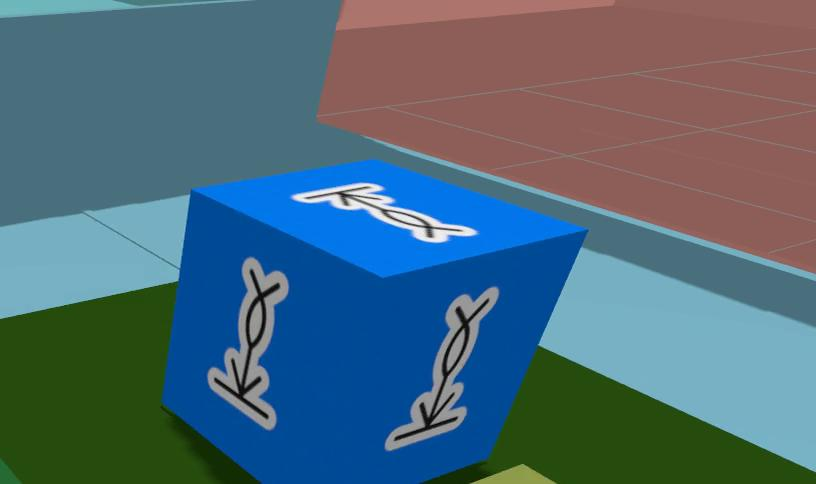KFS_REAL: (162, 161, 586, 484), (384, 287, 499, 451), (208, 258, 287, 429), (291, 183, 477, 242)
